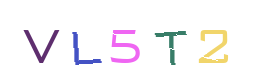2: (174, 0, 254, 80)
5: (82, 0, 162, 80)
L: (63, 0, 143, 80)
T: (92, 0, 172, 80)
V: (44, 0, 124, 80)
